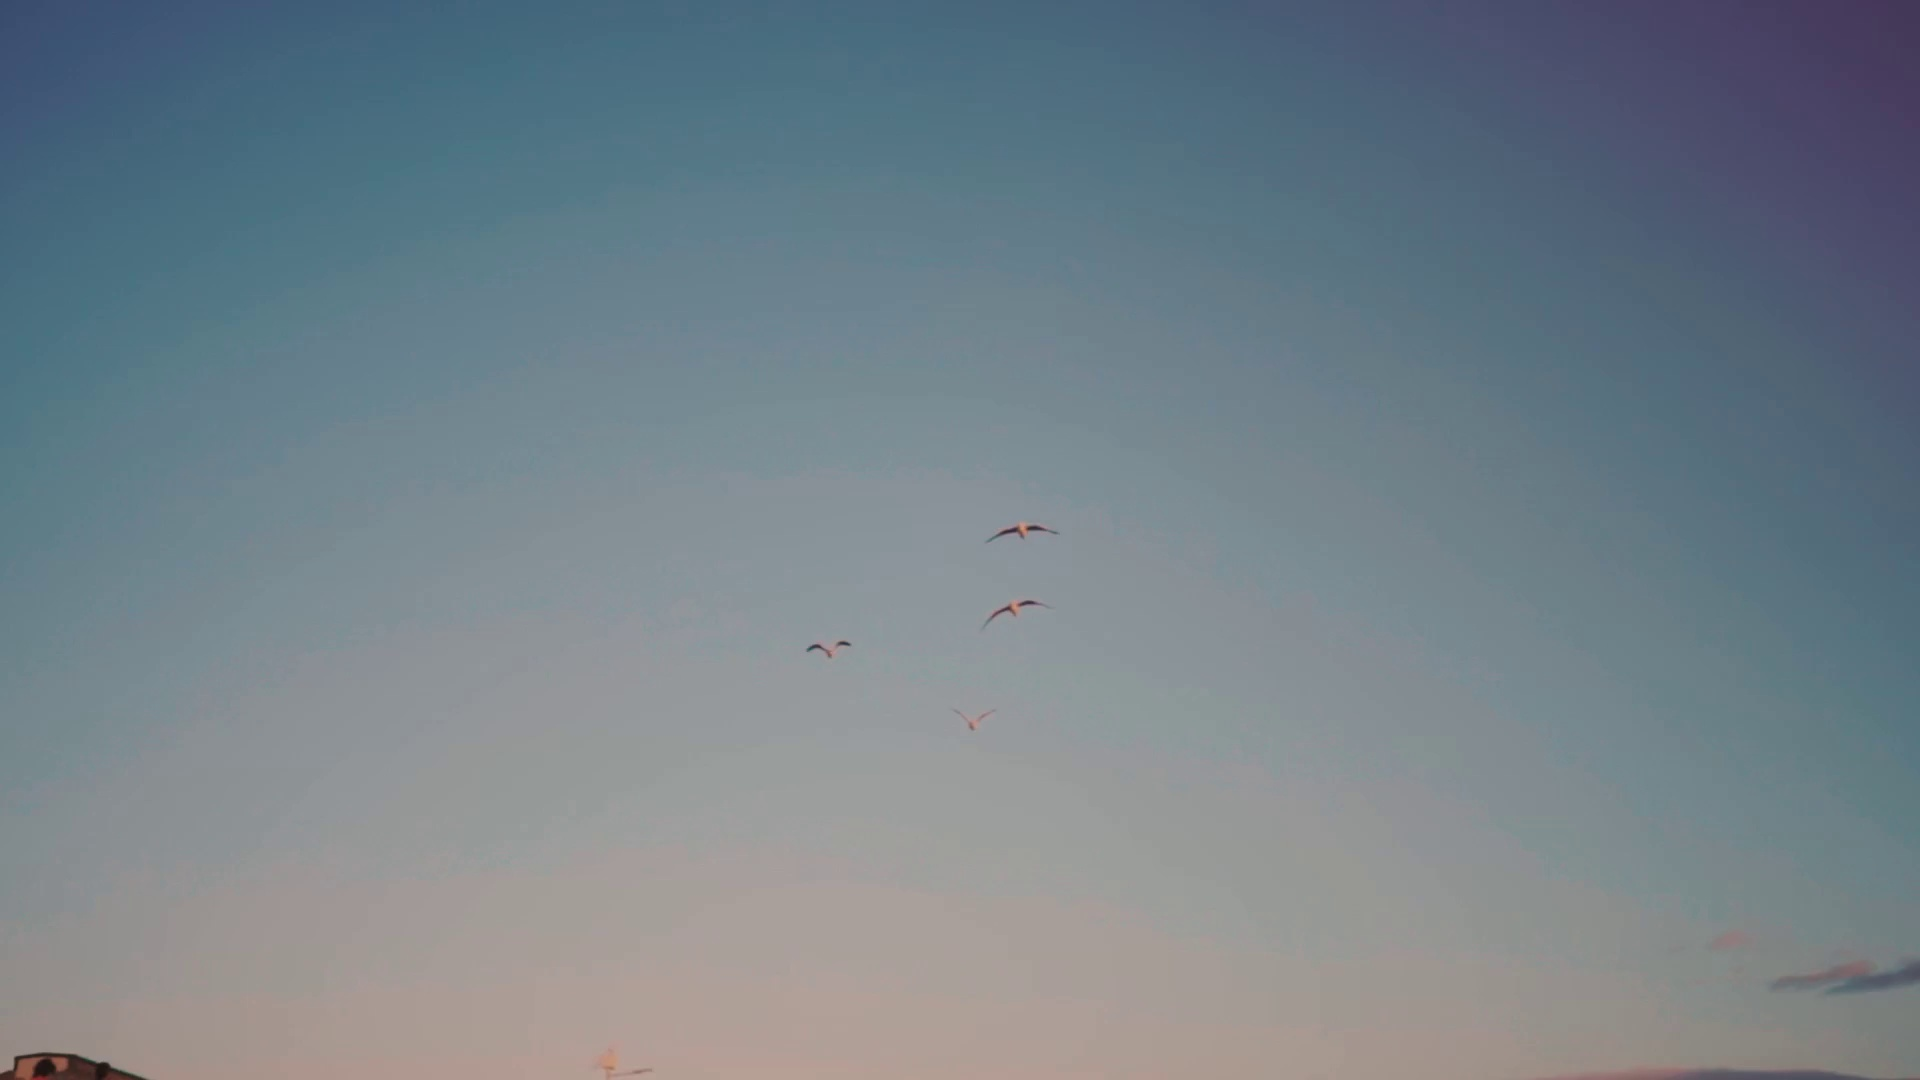bird: (985, 597, 1052, 624), (982, 522, 1060, 543), (949, 708, 992, 733), (804, 637, 848, 657)
